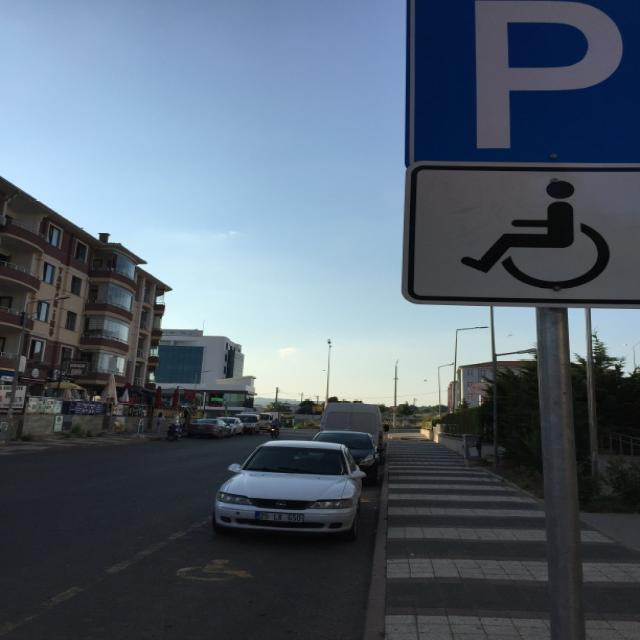park: (406, 1, 640, 163)
